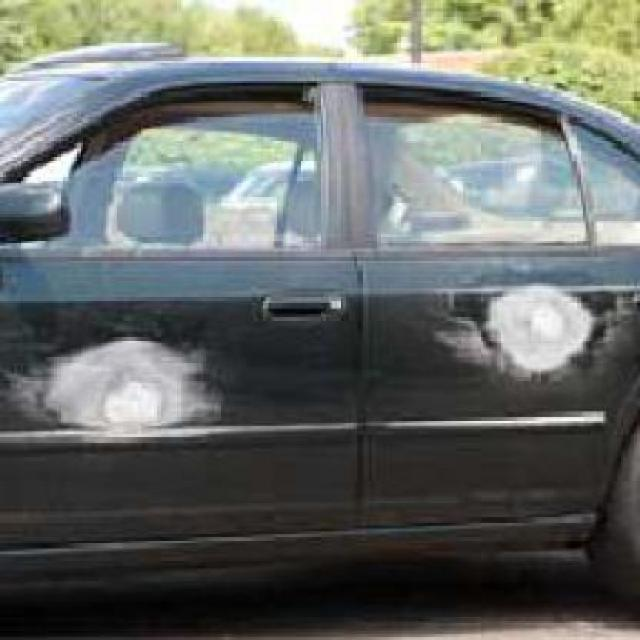dent-or-scratch: (11, 318, 234, 447), (461, 277, 634, 377)
